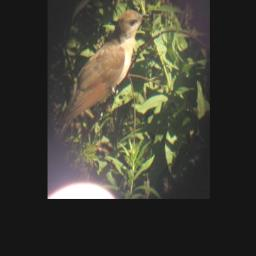Cuckoo: (51, 9, 150, 147)
